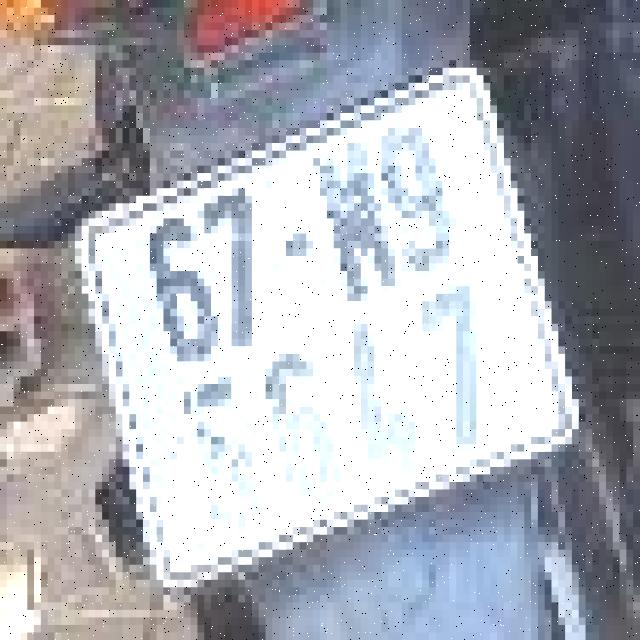4: (326, 310, 433, 485)
5: (161, 360, 286, 546)
6: (245, 348, 359, 525), (135, 204, 232, 381)
7: (407, 264, 508, 468), (198, 157, 293, 351)
9: (372, 96, 477, 302)
M: (304, 121, 418, 315)
